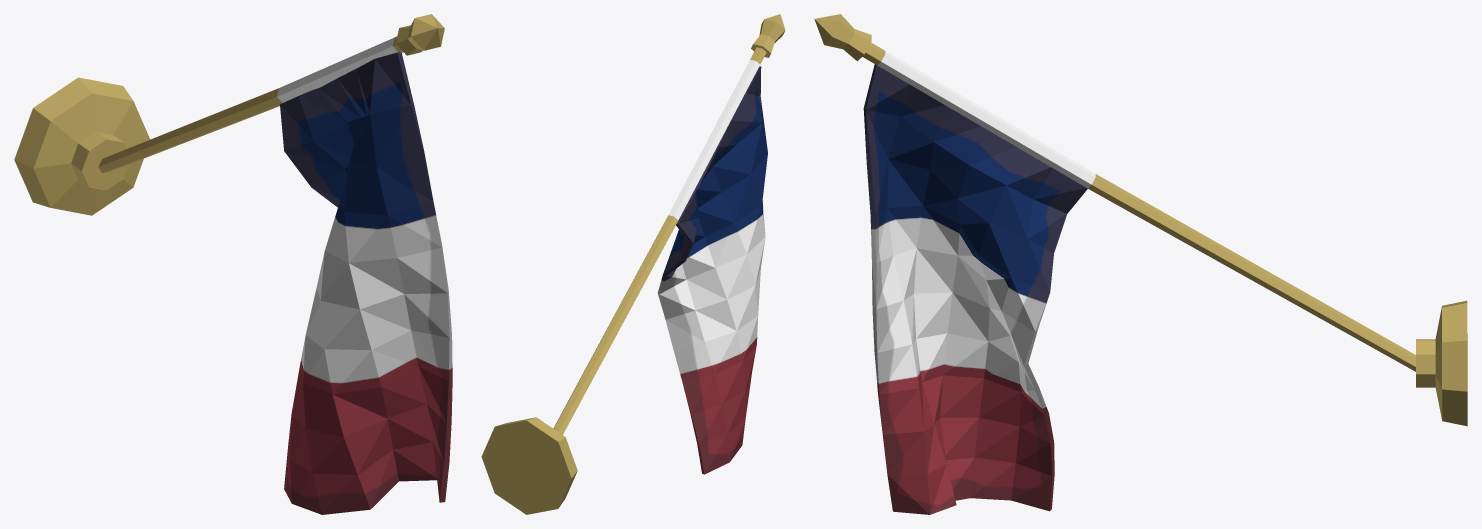
The model's file is SM_Env_Flag_Wall_02_France.fbx.
3 renders of one model, left to right at view 1: azimuth 30°, elevation 25°; view 2: azimuth 150°, elevation 25°; view 3: azimuth 270°, elevation 25°, orthographic. The views are drawn at different scales.
Visible parts, largest first — view 1: SM_Env_Flag_Wall_02_France; view 2: SM_Env_Flag_Wall_02_France; view 3: SM_Env_Flag_Wall_02_France.
Part boxes in pixels (bbox=[...]): SM_Env_Flag_Wall_02_France: bbox=[14, 14, 452, 514]; SM_Env_Flag_Wall_02_France: bbox=[481, 14, 785, 514]; SM_Env_Flag_Wall_02_France: bbox=[814, 14, 1467, 514].
Size of the model in its own units: 0.00479 by 0.0192 by 0.0226.
